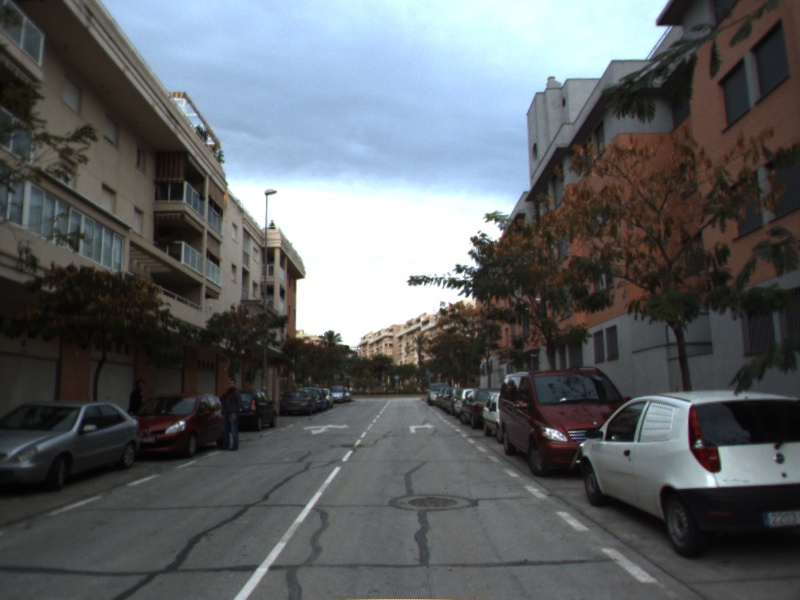RIGHT: (407, 421, 437, 435)
